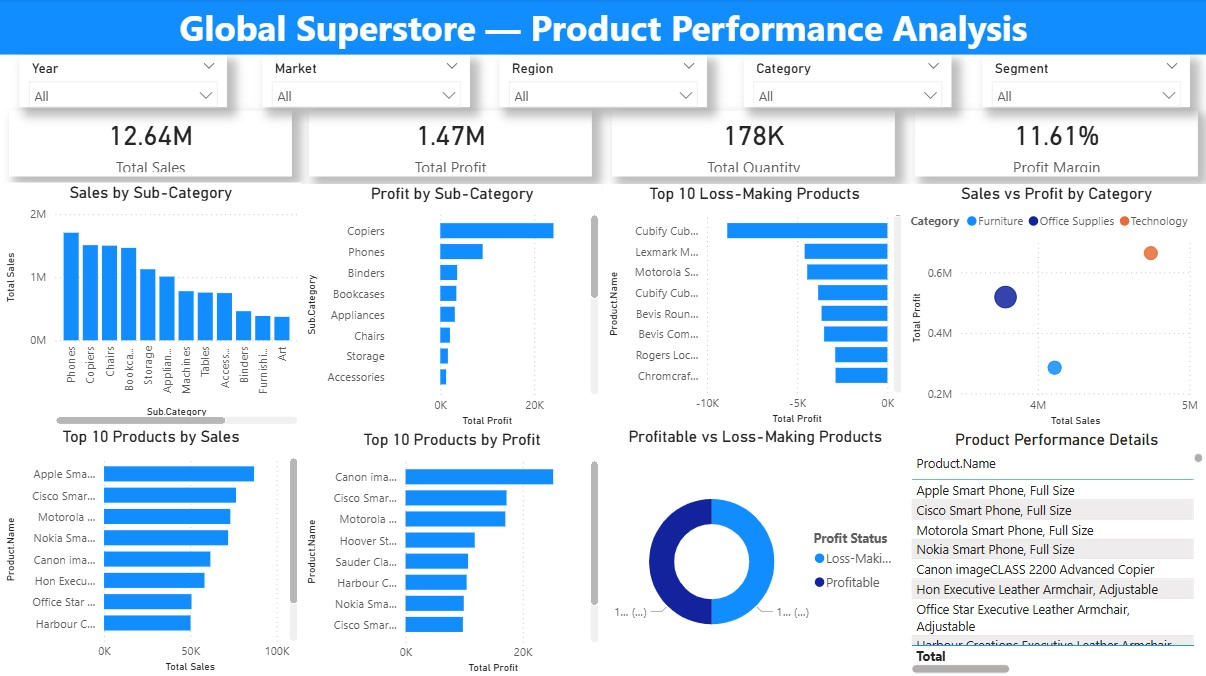

This screenshot's page, from the dashboard's own definition file:
{"tool":"powerbi","page":{"name":"Product Analysis","canvas":[1280,720],"ordinal":3},"visuals":[{"type":"textbox","box":[0,0,1280,60],"z":0},{"type":"card","fields":{"Values":["DateTable.Total Sales"]},"box":[10,120,300,70],"z":1},{"type":"card","fields":{"Values":["DateTable.Total Profit"]},"box":[328.3,120,300,70],"z":2},{"type":"card","fields":{"Values":["DateTable.Total Quantity"]},"box":[648.3,120,300,70],"z":3},{"type":"card","fields":{"Values":["DateTable.Profit Margin"]},"box":[970,120,300,70],"z":4},{"type":"slicer","fields":{"Values":["DateTable.Year"]},"box":[20,60,220,55],"z":5},{"type":"slicer","fields":{"Values":["superstore.Market"]},"box":[278.3,60,220,55],"z":6},{"type":"slicer","fields":{"Values":["superstore.Region"]},"box":[530,60,220,55],"z":7},{"type":"slicer","fields":{"Values":["superstore.Category"]},"box":[788.3,60,220,55],"z":8},{"type":"slicer","fields":{"Values":["superstore.Segment"]},"box":[1041.7,60,220,55],"z":9},{"type":"clusteredColumnChart","title":"Sales by Sub-Category","fields":{"Y":["DateTable.Total Sales"],"Category":["superstore.Sub.Category"]},"box":[0,195.6,320,261],"z":10},{"type":"clusteredBarChart","title":"Top 10 Products by Sales","fields":{"Category":["superstore.Product.Name"],"Y":["DateTable.Total Sales"]},"box":[0,455.4,320,264.6],"z":11},{"type":"clusteredBarChart","title":"Profit by Sub-Category","fields":{"Category":["superstore.Sub.Category"],"Y":["DateTable.Total Profit"]},"box":[319.4,196.5,319.4,260.8],"z":12},{"type":"clusteredBarChart","title":"Top 10 Products by Profit","fields":{"Y":["DateTable.Total Profit"],"Category":["superstore.Product.Name"]},"box":[319.4,457.3,319.4,262.7],"z":13},{"type":"scatterChart","title":"Sales vs Profit by Category","fields":{"X":["DateTable.Total Sales"],"Y":["DateTable.Total Profit"],"Series":["superstore.Category"],"Size":["DateTable.Total Quantity"]},"box":[960,196.5,319.4,260.8],"z":14},{"type":"clusteredBarChart","title":"Top 10 Loss-Making Products","fields":{"Y":["DateTable.Total Profit"],"Category":["superstore.Product.Name"]},"box":[638.7,196.5,321.3,258.9],"z":15},{"type":"donutChart","title":"Profitable vs Loss-Making Products","fields":{"Y":["Count(superstore.Product.ID)"],"Category":["Customer Analysis.Profit Status"]},"box":[641,454.9,319.7,265.6],"z":16},{"type":"tableEx","title":"Product Performance Details","fields":{"Values":["superstore.Product.Name","superstore.Category","superstore.Sub.Category","DateTable.Total Sales","DateTable.Total Profit","DateTable.Profit Margin","DateTable.Total Quantity"]},"box":[960,457.3,319.4,262.7],"z":17}]}

Visuals, with their boxes in screenshot pixels (x1, y1, x2, y2), scaled from the page's 1280x720 canvas onto the 1206x676 screenshot:
textbox: pyautogui.locateOnScreen(0, 0, 1205, 56)
card - DateTable.Total Sales: pyautogui.locateOnScreen(9, 113, 292, 178)
card - DateTable.Total Profit: pyautogui.locateOnScreen(309, 113, 592, 178)
card - DateTable.Total Quantity: pyautogui.locateOnScreen(611, 113, 893, 178)
card - DateTable.Profit Margin: pyautogui.locateOnScreen(914, 113, 1197, 178)
slicer - DateTable.Year: pyautogui.locateOnScreen(19, 56, 226, 108)
slicer - superstore.Market: pyautogui.locateOnScreen(262, 56, 469, 108)
slicer - superstore.Region: pyautogui.locateOnScreen(499, 56, 707, 108)
slicer - superstore.Category: pyautogui.locateOnScreen(743, 56, 950, 108)
slicer - superstore.Segment: pyautogui.locateOnScreen(981, 56, 1189, 108)
"Sales by Sub-Category" clusteredColumnChart: pyautogui.locateOnScreen(0, 184, 302, 429)
"Top 10 Products by Sales" clusteredBarChart: pyautogui.locateOnScreen(0, 428, 302, 675)
"Profit by Sub-Category" clusteredBarChart: pyautogui.locateOnScreen(301, 184, 602, 429)
"Top 10 Products by Profit" clusteredBarChart: pyautogui.locateOnScreen(301, 429, 602, 675)
"Sales vs Profit by Category" scatterChart: pyautogui.locateOnScreen(904, 184, 1205, 429)
"Top 10 Loss-Making Products" clusteredBarChart: pyautogui.locateOnScreen(602, 184, 904, 428)
"Profitable vs Loss-Making Products" donutChart: pyautogui.locateOnScreen(604, 427, 905, 675)
"Product Performance Details" tableEx: pyautogui.locateOnScreen(904, 429, 1205, 675)
